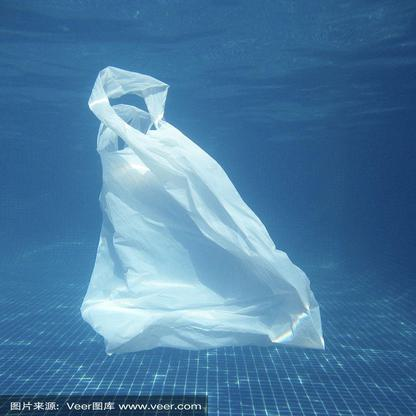plastic bag: (81, 67, 329, 355)
